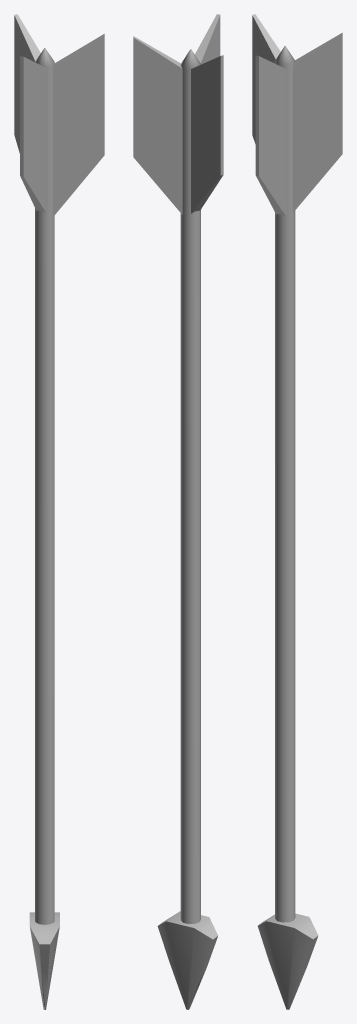
The model's file is Geo_Arrow_Final.fbx.
3 views of the same model, side by side, from view 1: azimuth 90°, elevation 25°; view 2: azimuth 150°, elevation 25°; view 3: azimuth 330°, elevation 25° (orthographic).
Visible parts, largest first — view 1: Geo_Arrow, Geo_Fletching_03, Geo_Fletching_02, Geo_Fletching_01; view 2: Geo_Arrow, Geo_Fletching_01, Geo_Fletching_02, Geo_Fletching_03; view 3: Geo_Arrow, Geo_Fletching_01, Geo_Fletching_03, Geo_Fletching_02.
Part boxes in pixels (x1=…): Geo_Arrow: x1=29, y1=48, x2=59, y2=1009; Geo_Fletching_03: x1=53, y1=34, x2=104, y2=216; Geo_Fletching_02: x1=20, y1=56, x2=45, y2=212; Geo_Fletching_01: x1=14, y1=14, x2=40, y2=153; Geo_Arrow: x1=157, y1=49, x2=218, y2=1009; Geo_Fletching_01: x1=133, y1=36, x2=182, y2=214; Geo_Fletching_02: x1=191, y1=55, x2=223, y2=213; Geo_Fletching_03: x1=195, y1=14, x2=220, y2=64; Geo_Arrow: x1=257, y1=46, x2=318, y2=1009; Geo_Fletching_01: x1=293, y1=32, x2=342, y2=212; Geo_Fletching_03: x1=255, y1=55, x2=286, y2=216; Geo_Fletching_02: x1=252, y1=14, x2=280, y2=143.
Bounding box in the file's own units: 8.56 × 91.18 × 7.66.
Materials: 1 (1 with a texture image).
